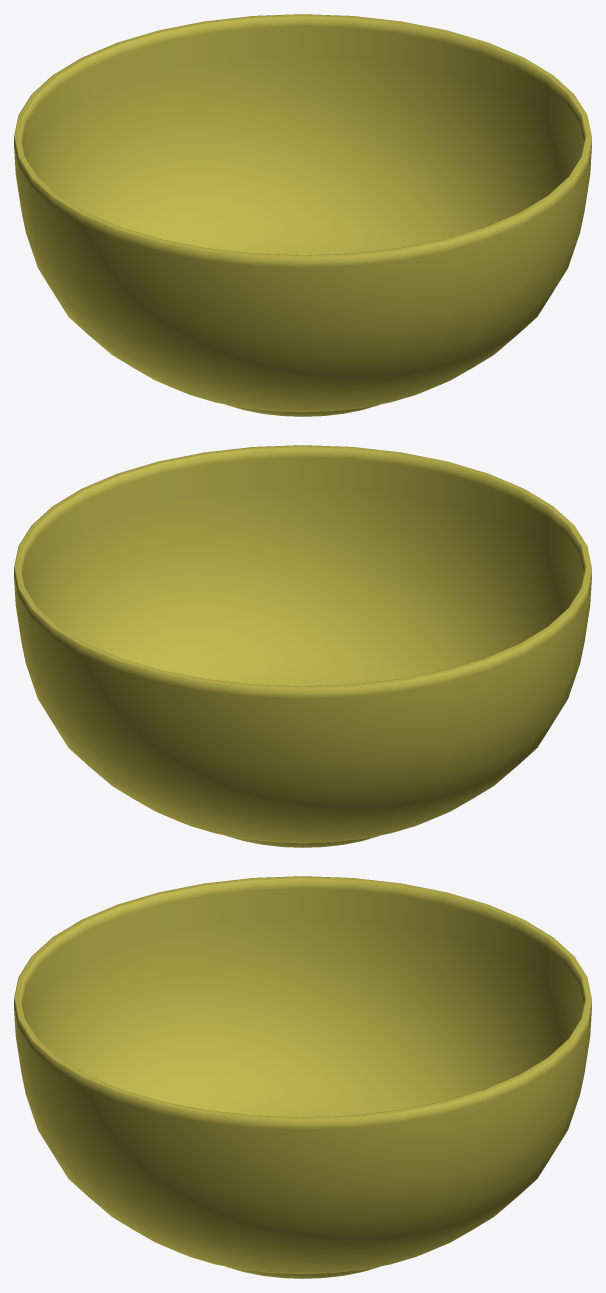
File: Bowl.FBX
3 renders of one model, top to bottom at view 1: azimuth 30°, elevation 25°; view 2: azimuth 150°, elevation 25°; view 3: azimuth 270°, elevation 25°, orthographic.
Visible parts, largest first — view 1: Cylinder05; view 2: Cylinder05; view 3: Cylinder05.
Part boxes in pixels (left/top/right/bottom): Cylinder05: left=14, top=14, right=591, bottom=416; Cylinder05: left=14, top=445, right=591, bottom=847; Cylinder05: left=14, top=876, right=591, bottom=1278.
Size of the model in its own units: 19.75 by 8.84 by 19.76.
